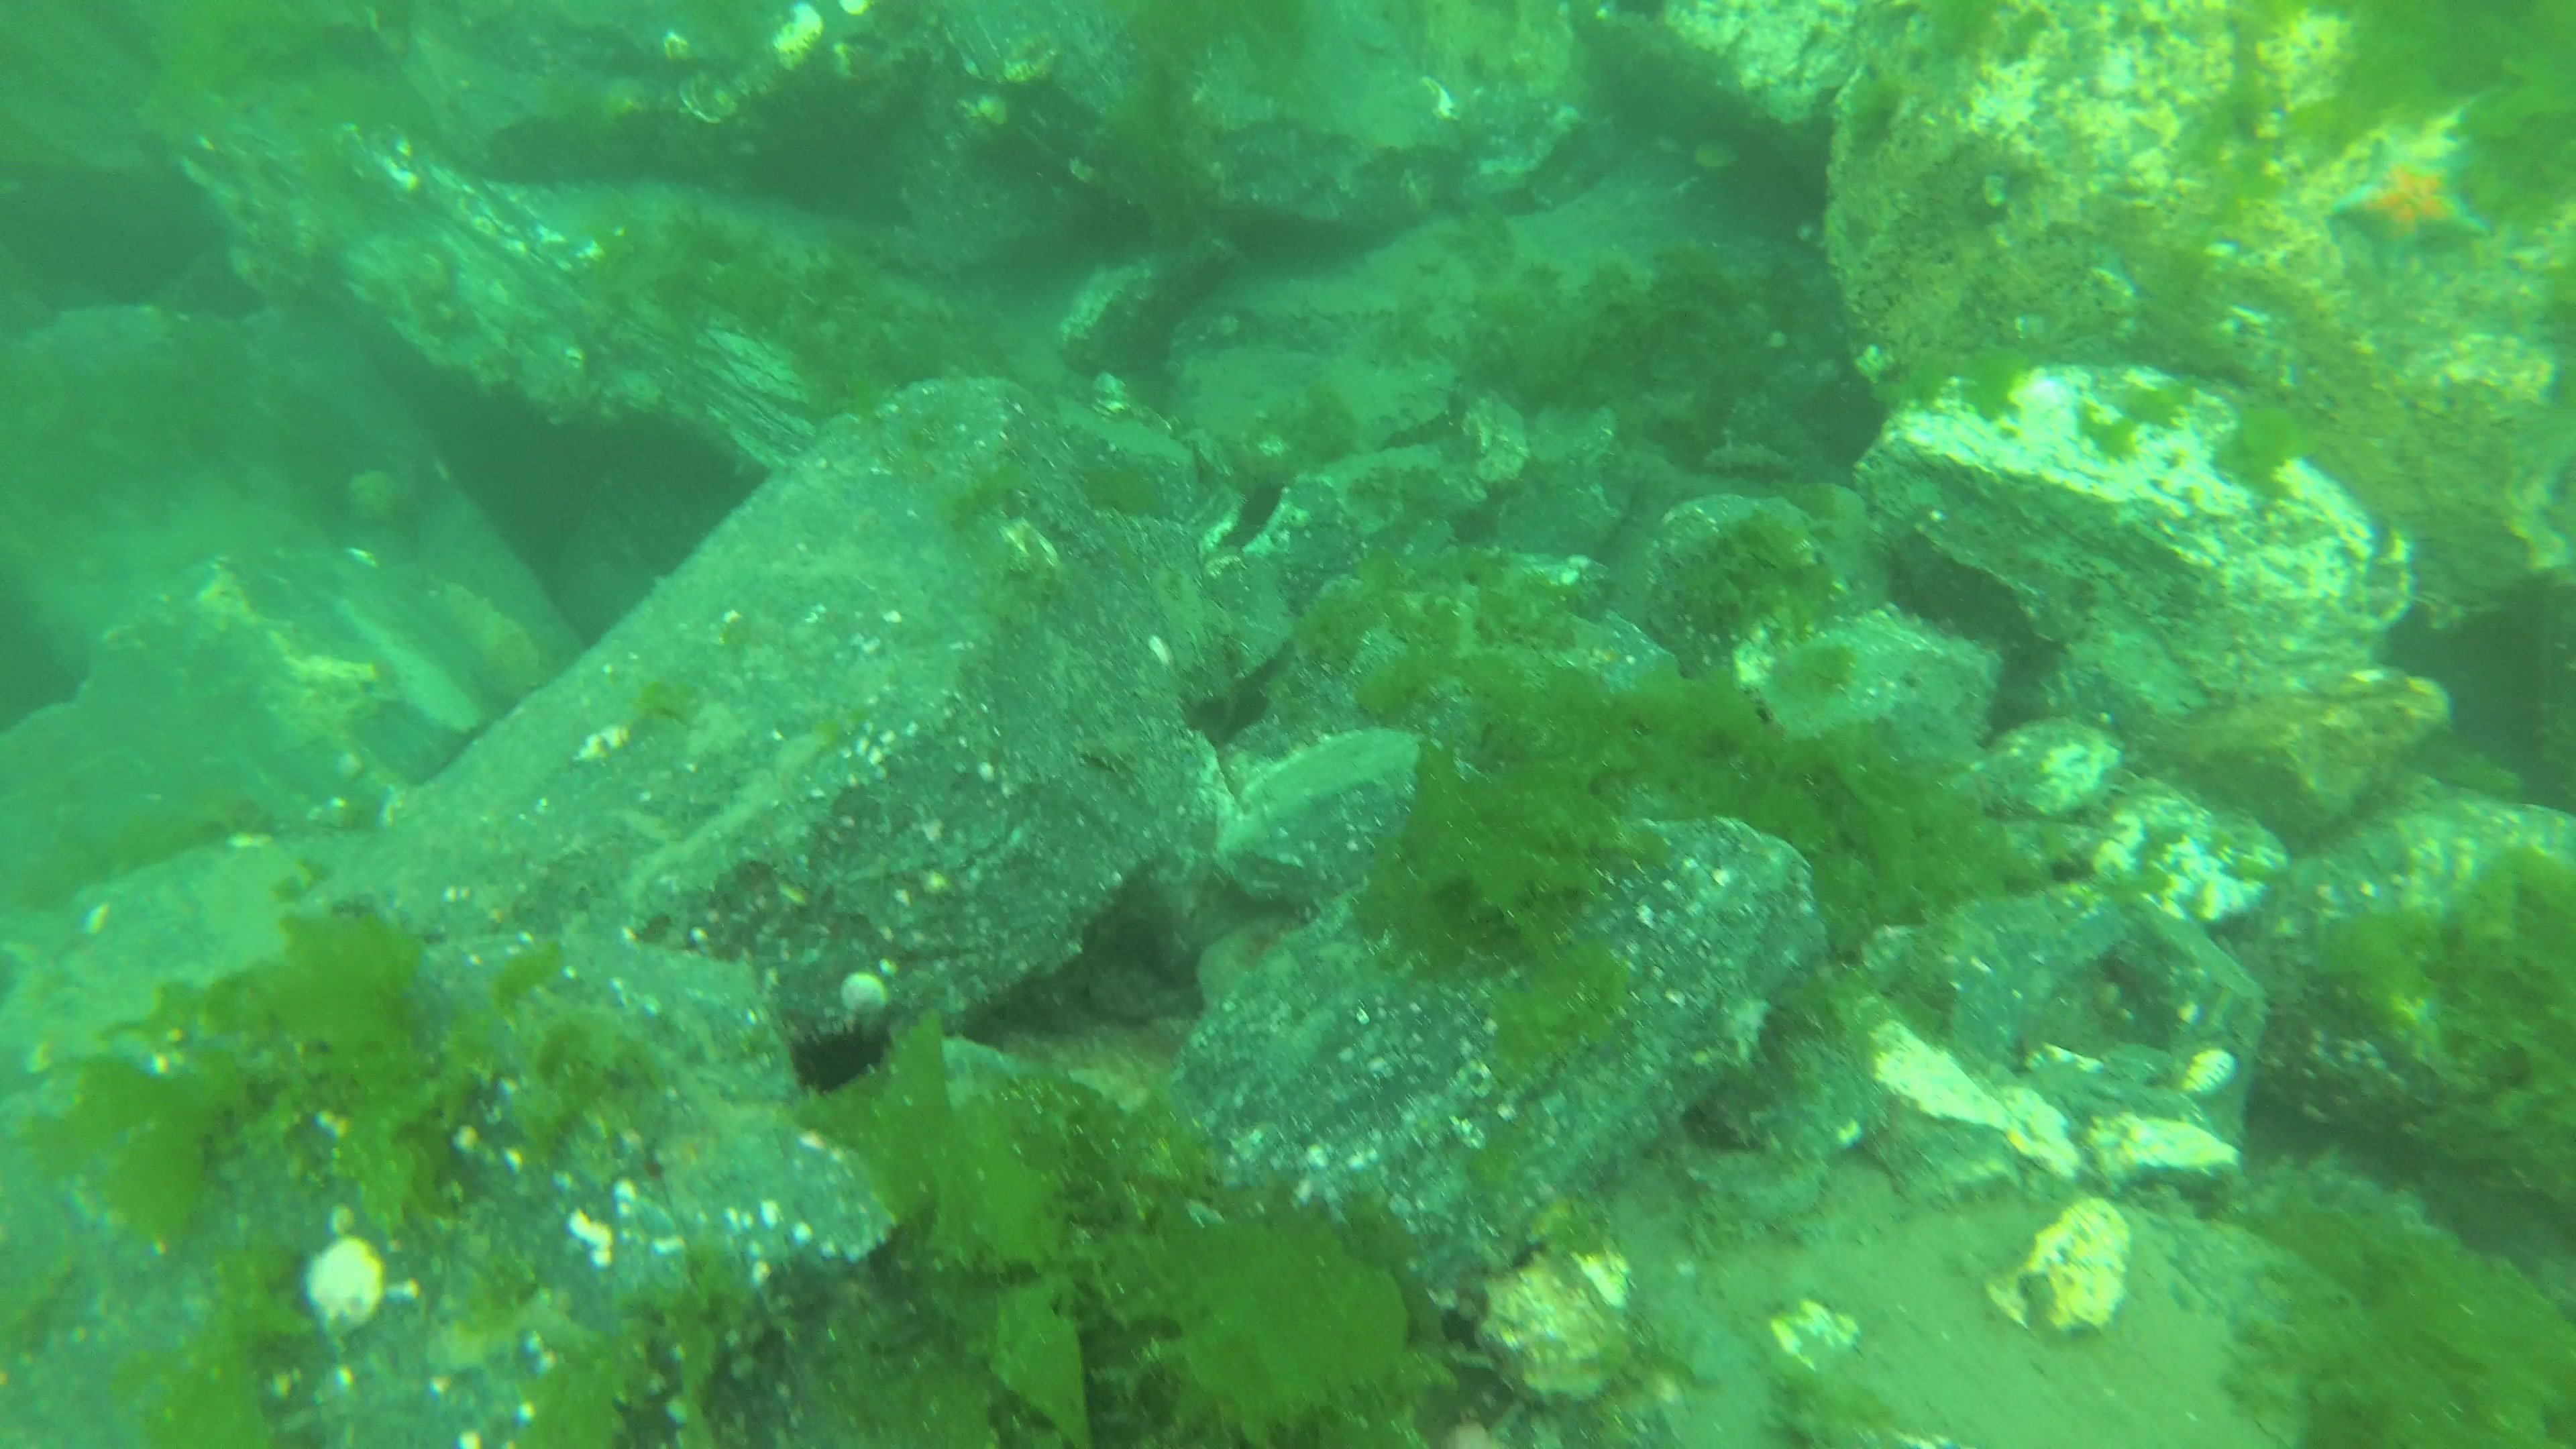echinus: (777, 1010, 904, 1102)
holothurian: (1698, 430, 1801, 483)
starfish: (2330, 133, 2491, 269)
